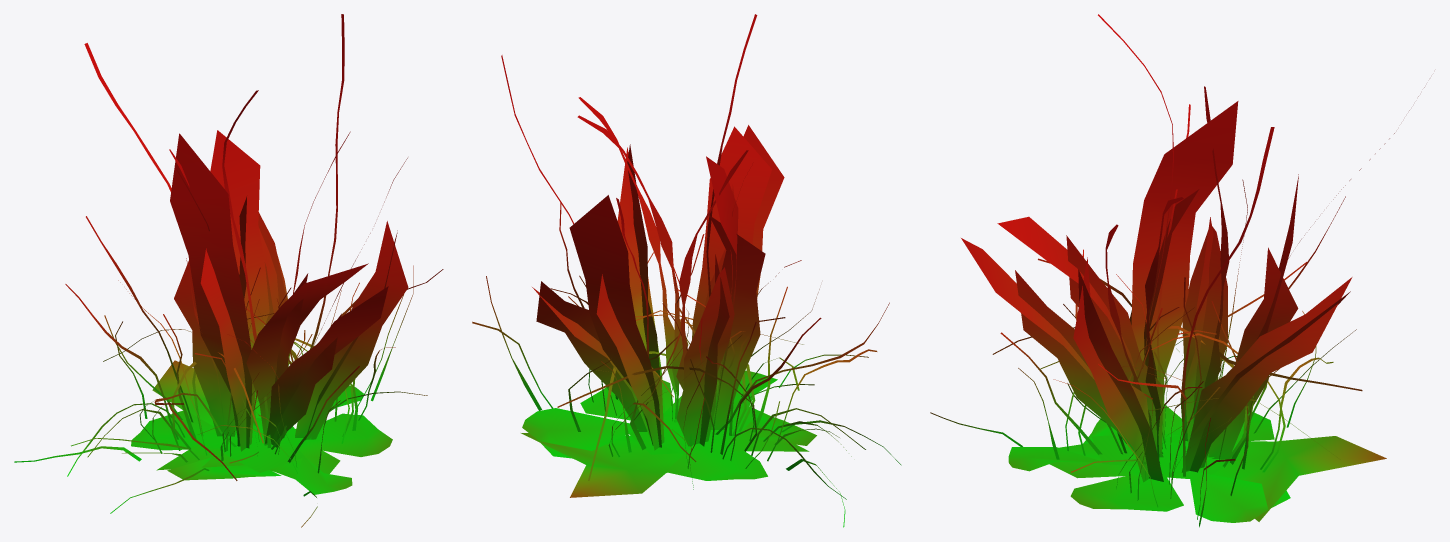
File: uddmcgbia_Var7_LOD0.fbx
3 views of the same model, side by side, from view 1: azimuth 30°, elevation 25°; view 2: azimuth 150°, elevation 25°; view 3: azimuth 270°, elevation 25° (orthographic). The views are drawn at different scales.
Visible parts, largest first — view 1: _e4e2_Var7_LOD0; view 2: _e4e2_Var7_LOD0; view 3: _e4e2_Var7_LOD0.
Part boxes in pixels (box(x1,y1,x2,y2)): _e4e2_Var7_LOD0: box(14, 14, 443, 527); _e4e2_Var7_LOD0: box(472, 14, 901, 527); _e4e2_Var7_LOD0: box(930, 14, 1424, 527).
Bounding box in the file's own units: 23.33 × 23.45 × 24.7.
